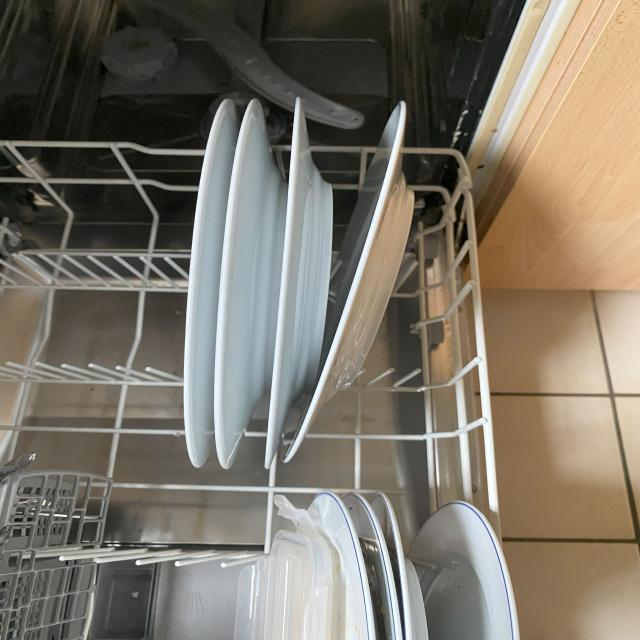empty_slot: (8, 169, 175, 447), (109, 485, 249, 636)
